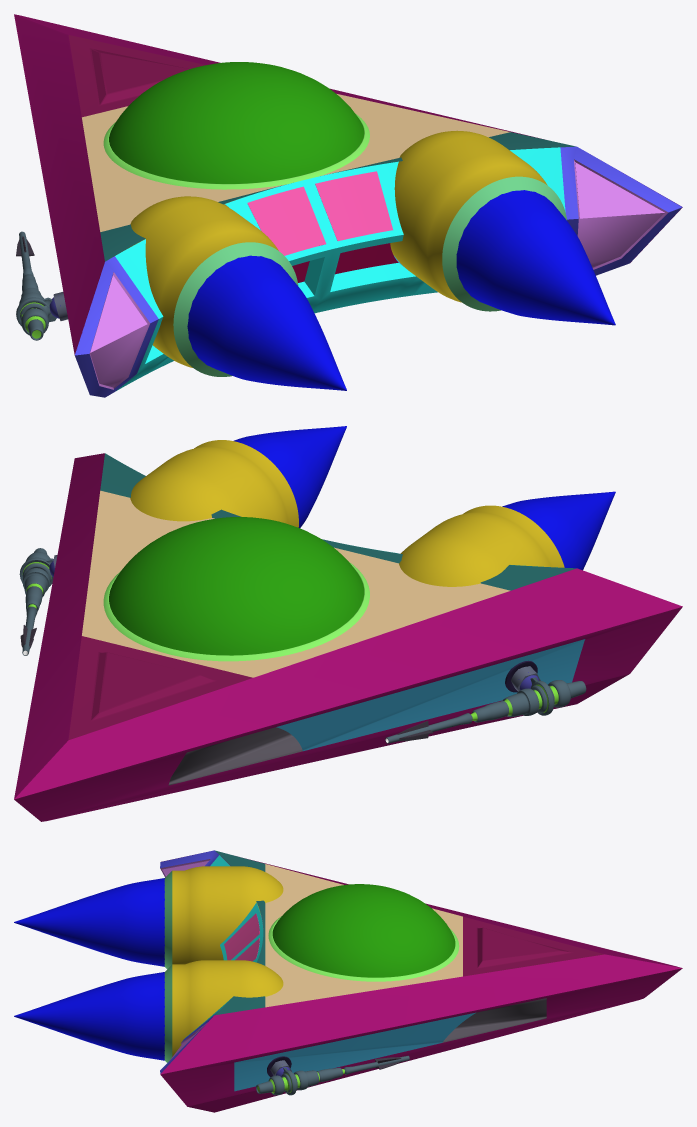
The model's file is ArrowShip.fbx.
3 renders of one model, top to bottom at view 1: azimuth 30°, elevation 25°; view 2: azimuth 150°, elevation 25°; view 3: azimuth 270°, elevation 25°, orthographic. The views are drawn at different scales.
Visible parts, largest first — view 1: AS_Afterburn, AS_CockpitGlass, AS_EngineCase, AS_Fuselage_TL, AS_Back, AS_Top, AS_BackLight, AS_BackFin, AS_BackLightPanel, AS_EngineRim, AS_Hood, AS_CockpitTrim (+4 smaller); view 2: AS_Fuselage_TL, AS_CockpitGlass, AS_EngineCase, AS_Top, AS_Fuselage_L, AS_Fuselage_TR, AS_Hood, AS_Winglet_L, AS_Afterburn, AS_WingIntake, AS_TopBack, AS_Fuselage_BL (+3 smaller); view 3: AS_Fuselage_TR, AS_Afterburn, AS_CockpitGlass, AS_EngineCase, AS_Fuselage_R, AS_Top, AS_Winglet_R, AS_Hood, AS_WingIntake, AS_Fuselage_BR, AS_Gun_R, AS_EngineRim (+7 smaller).
Part boxes in pixels (x1,y1,x2,y2): AS_Afterburn: (187,190,615,390); AS_CockpitGlass: (109,62,364,183); AS_EngineCase: (115,130,547,367); AS_Fuselage_TL: (14,14,104,354); AS_Back: (115,147,565,390); AS_Top: (82,94,510,231); AS_BackLight: (89,159,668,389); AS_BackFin: (247,171,392,255); AS_BackLightPanel: (74,146,682,397); AS_EngineRim: (173,176,566,376); AS_Hood: (68,35,205,117); AS_CockpitTrim: (103,114,369,189); AS_Fuselage_TL: (14,568,682,799); AS_CockpitGlass: (109,517,364,655); AS_EngineCase: (130,440,564,586); AS_Top: (82,490,510,677); AS_Fuselage_L: (14,607,682,821); AS_Fuselage_TR: (14,453,104,798); AS_Hood: (68,636,252,739); AS_Winglet_L: (276,639,585,751); AS_Afterburn: (234,426,615,570); AS_WingIntake: (168,727,302,785); AS_TopBack: (100,453,576,590); AS_Fuselage_BL: (43,674,628,821); AS_Fuselage_TR: (160,954,682,1074); AS_Afterburn: (14,878,164,1060); AS_CockpitGlass: (272,884,455,977); AS_EngineCase: (172,866,283,1056); AS_Fuselage_R: (160,968,682,1106); AS_Top: (265,864,462,1007); AS_Winglet_R: (234,1012,475,1091); AS_Hood: (463,916,603,976); AS_WingIntake: (442,998,546,1042); AS_Fuselage_BR: (188,999,641,1112); AS_Gun_R: (256,1055,409,1095); AS_EngineRim: (164,871,172,1062).
Size of the model in its own units: 258 by 76.83 by 343.
